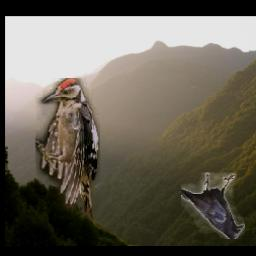Crow: (180, 172, 244, 239)
Woodpecker: (35, 79, 100, 220)
